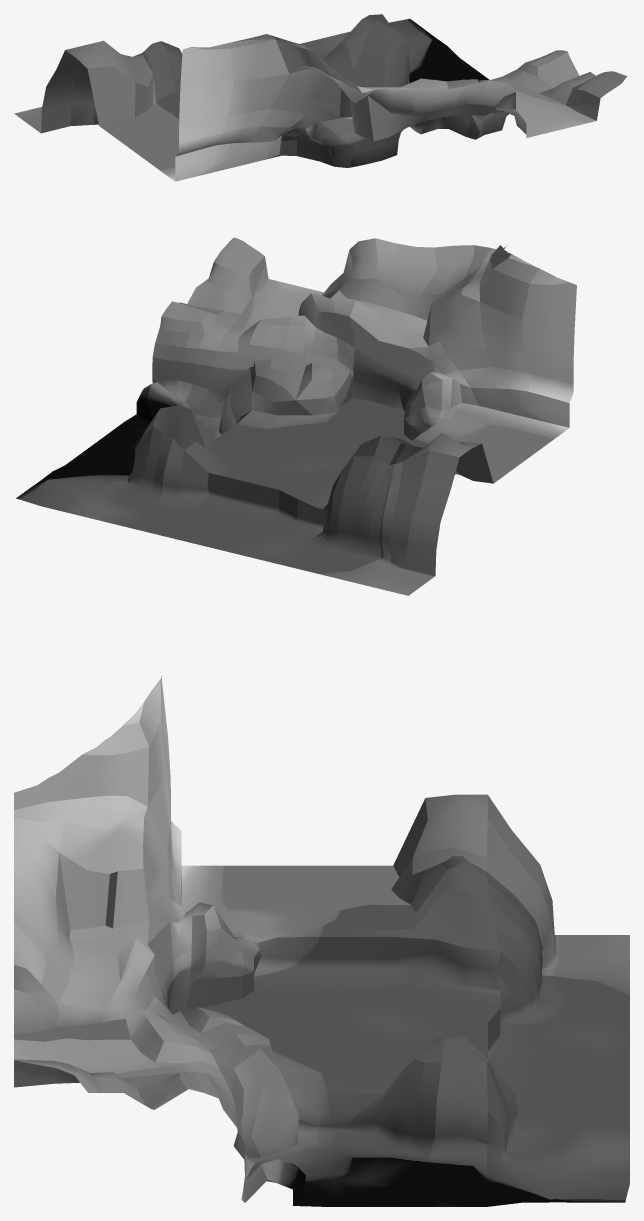
Rendered from terrain.dae.
3 renders of one model, top to bottom at view 1: azimuth 30°, elevation 25°; view 2: azimuth 150°, elevation 25°; view 3: azimuth 270°, elevation 25°, orthographic. The views are drawn at different scales.
Visible parts, largest first — view 1: polySurface169; view 2: polySurface169; view 3: polySurface169.
Part boxes in pixels (x1,y1,x2,y2): polySurface169: (14,14,627,181); polySurface169: (16,237,576,595); polySurface169: (14,676,629,1206).
Size of the model in its own units: 120 by 66.34 by 117.
